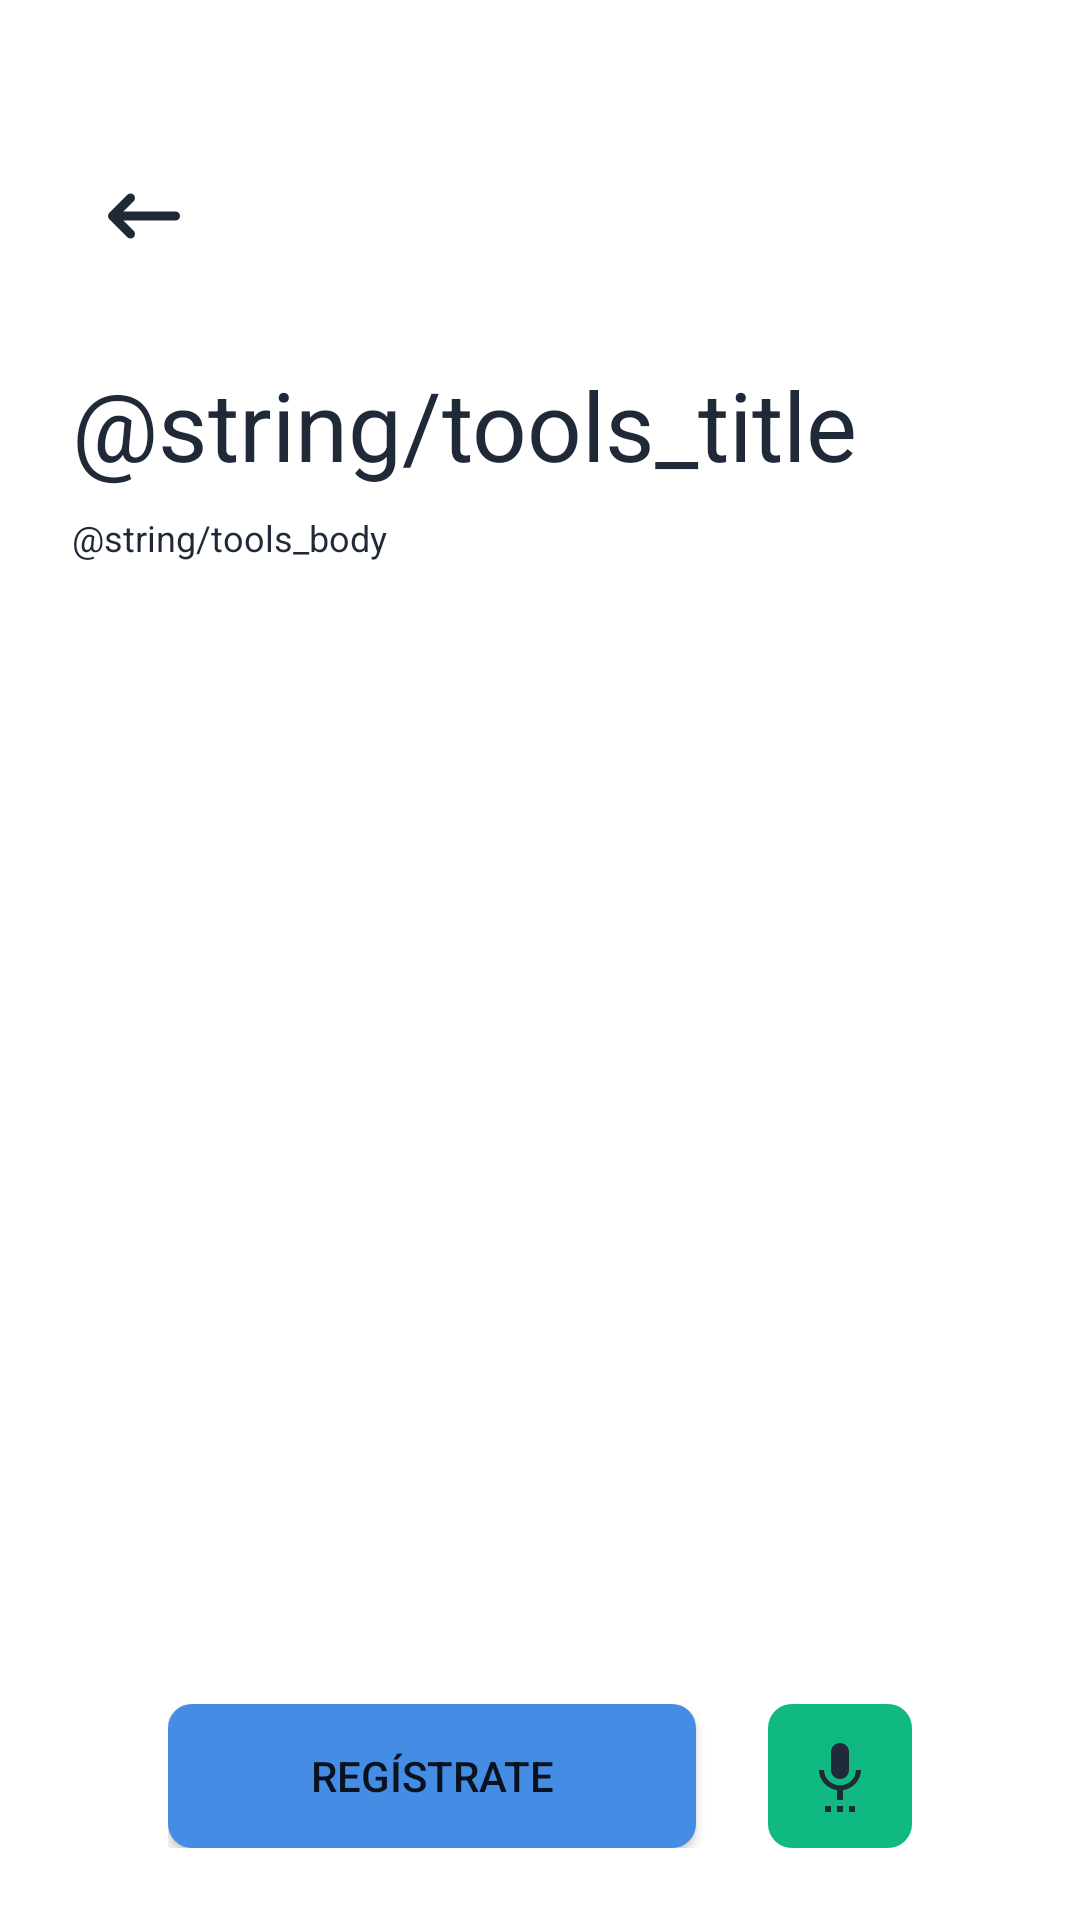

Icon click points for this 1080w x 1920h phone screenshot, format [x,y]:
return: [144,216]
voice: [840,1776]
